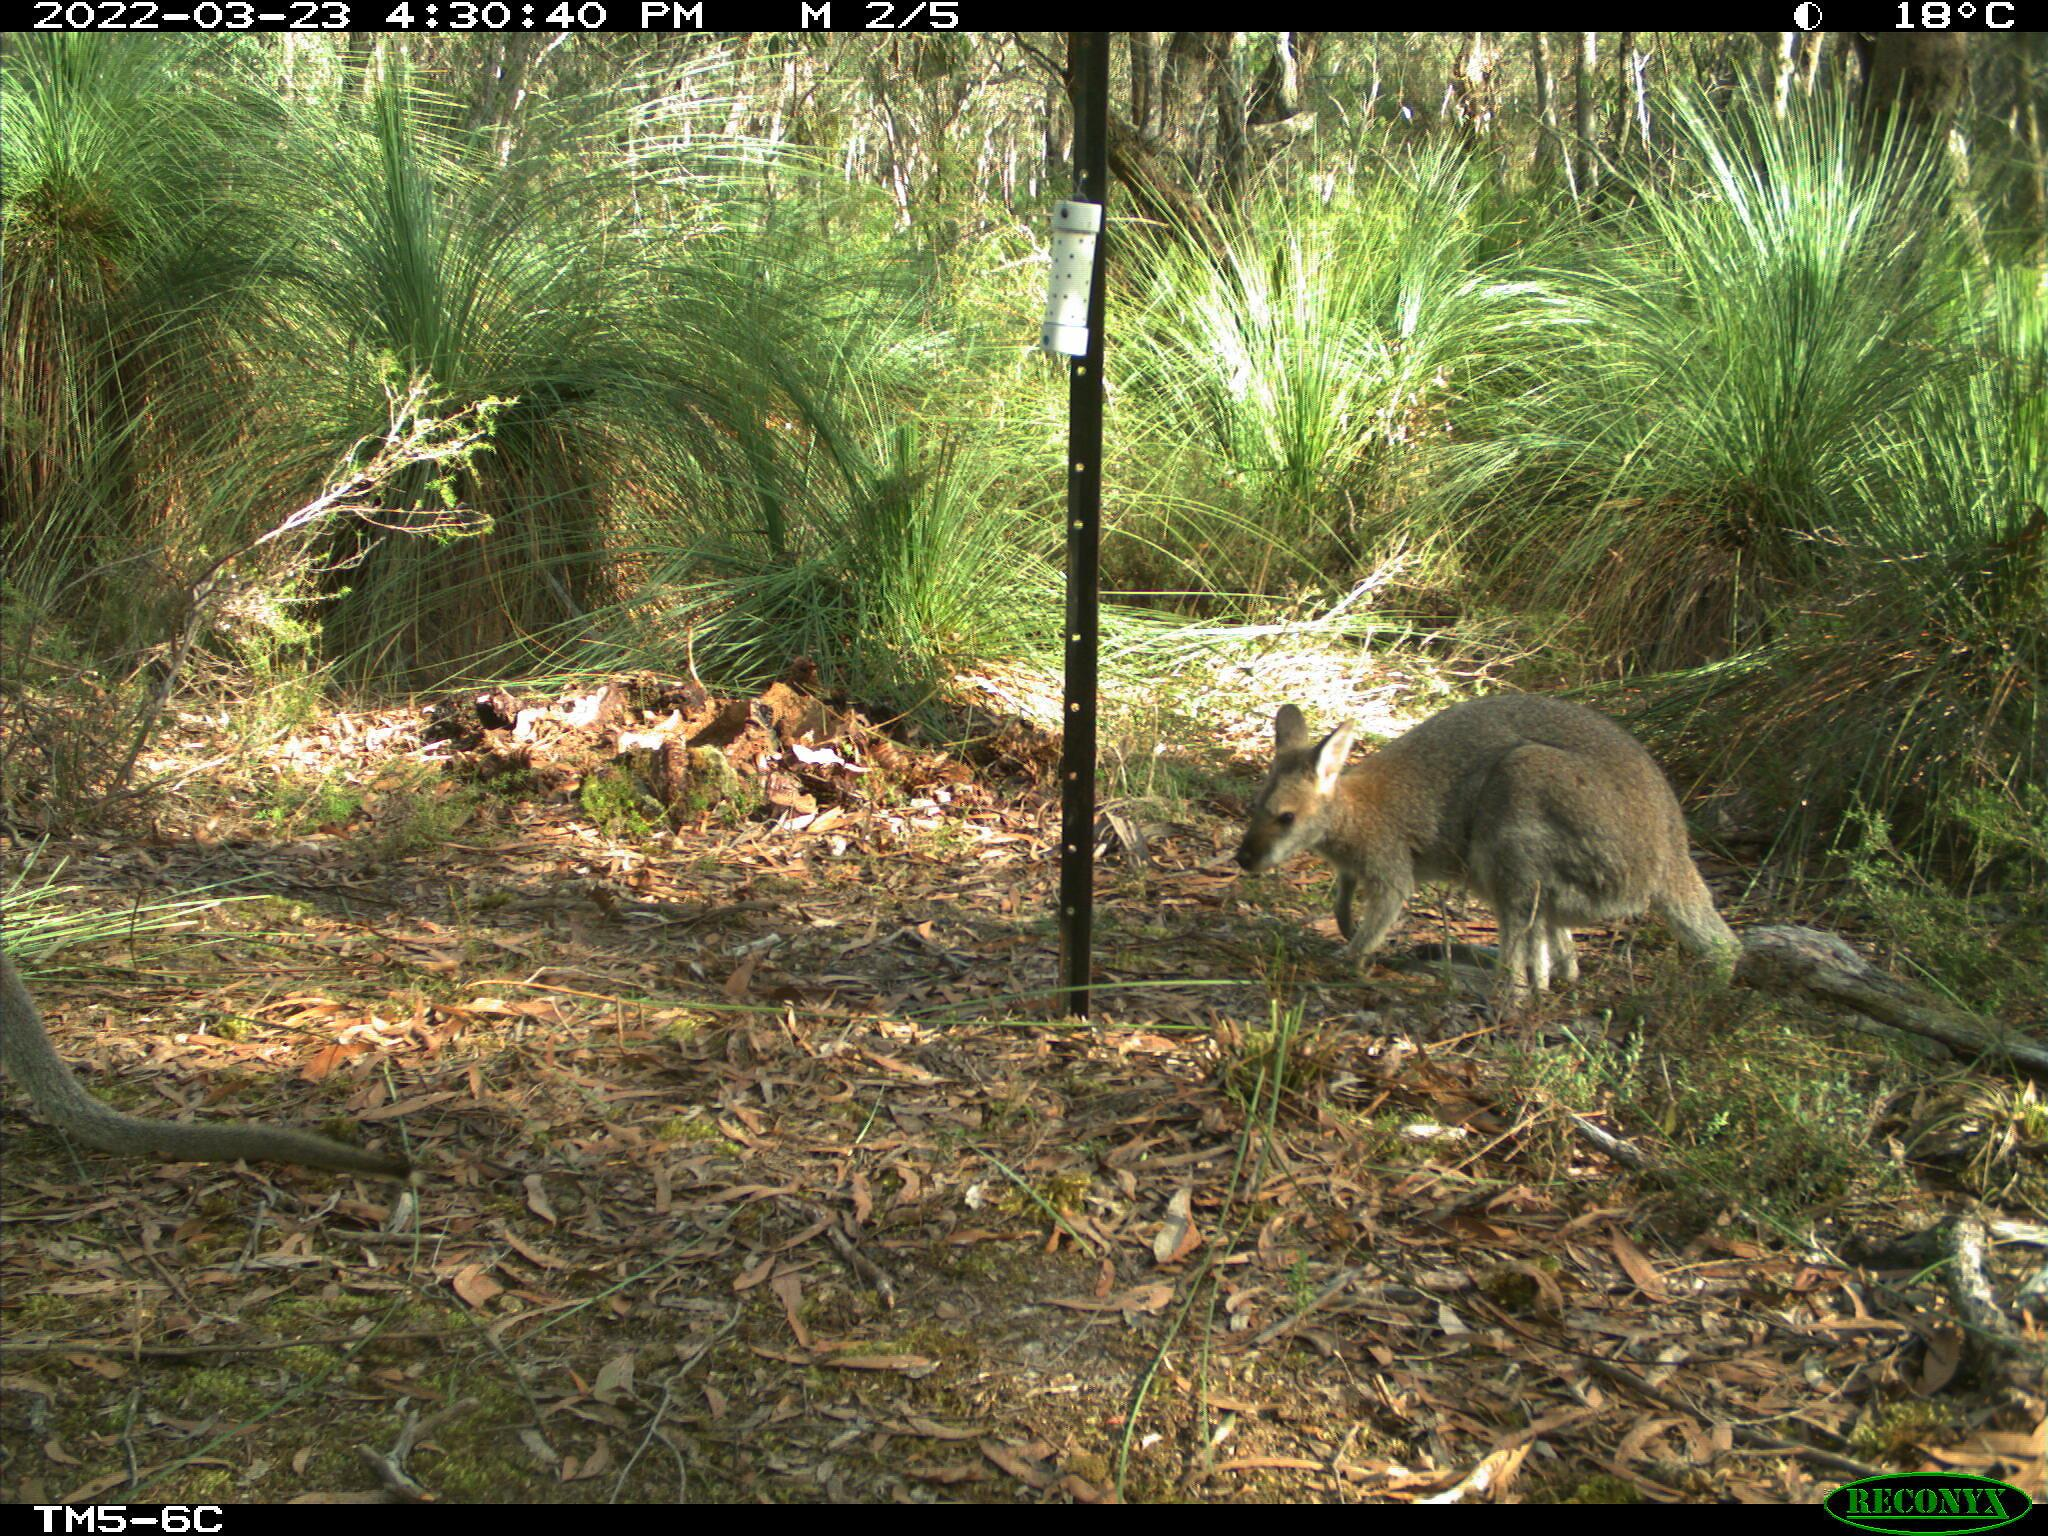Red-necked wallaby: (1219, 678, 1885, 1012)
